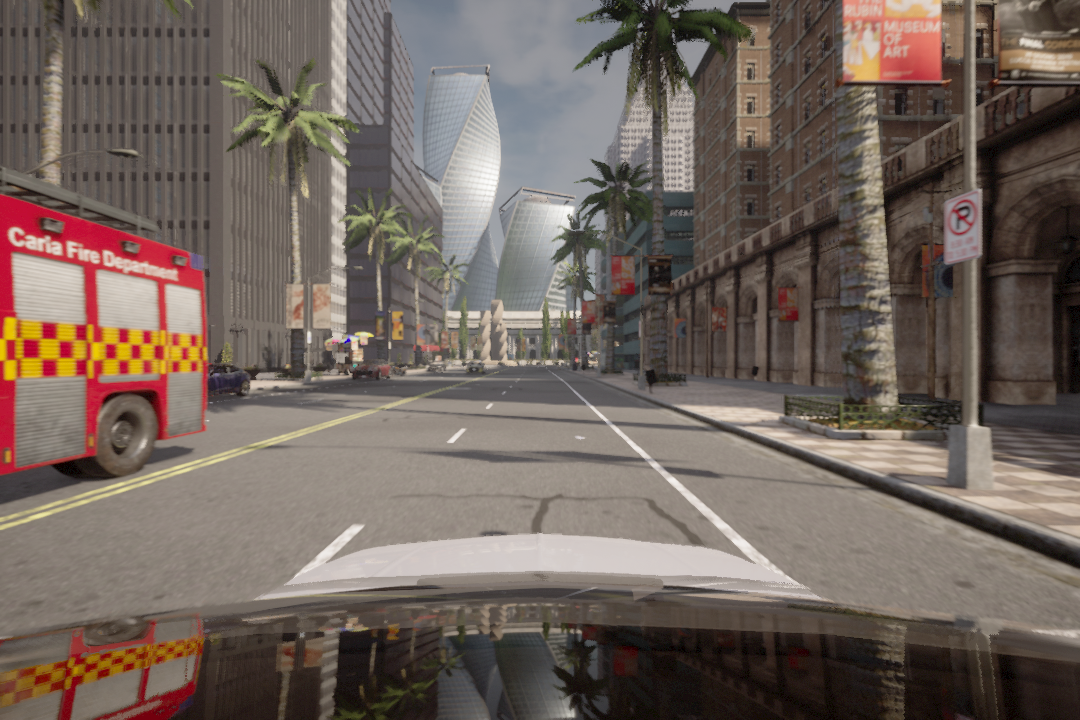TrafficSign_nstop: (944, 201, 986, 261)
